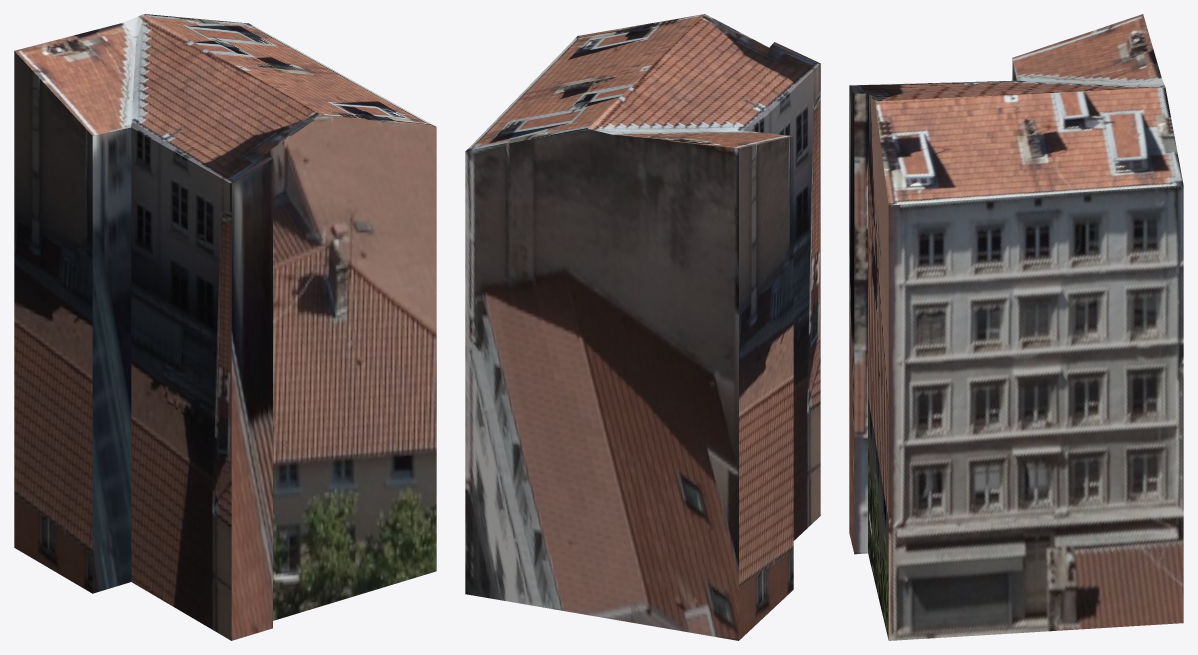
3 views of the same model, side by side, from view 1: azimuth 30°, elevation 25°; view 2: azimuth 150°, elevation 25°; view 3: azimuth 270°, elevation 25° (orthographic). The views are drawn at different scales.
Parts seen in each view (by area): view 1: Z_UP; view 2: Z_UP; view 3: Z_UP.
Part boxes in pixels (x1,y1,x2,y2): Z_UP: (14, 14, 436, 640); Z_UP: (465, 14, 820, 640); Z_UP: (849, 14, 1183, 640).
Size of the model in its own units: 13.68 by 22.2 by 13.81.
Materials: 2 (1 with a texture image).
